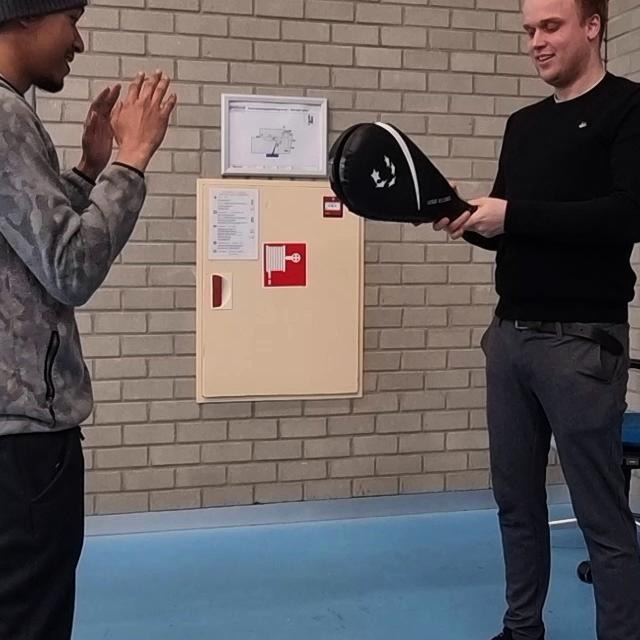paddle: (328, 124, 469, 221)
